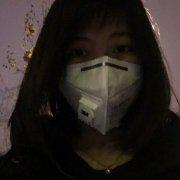OK: (53, 32, 149, 128)
